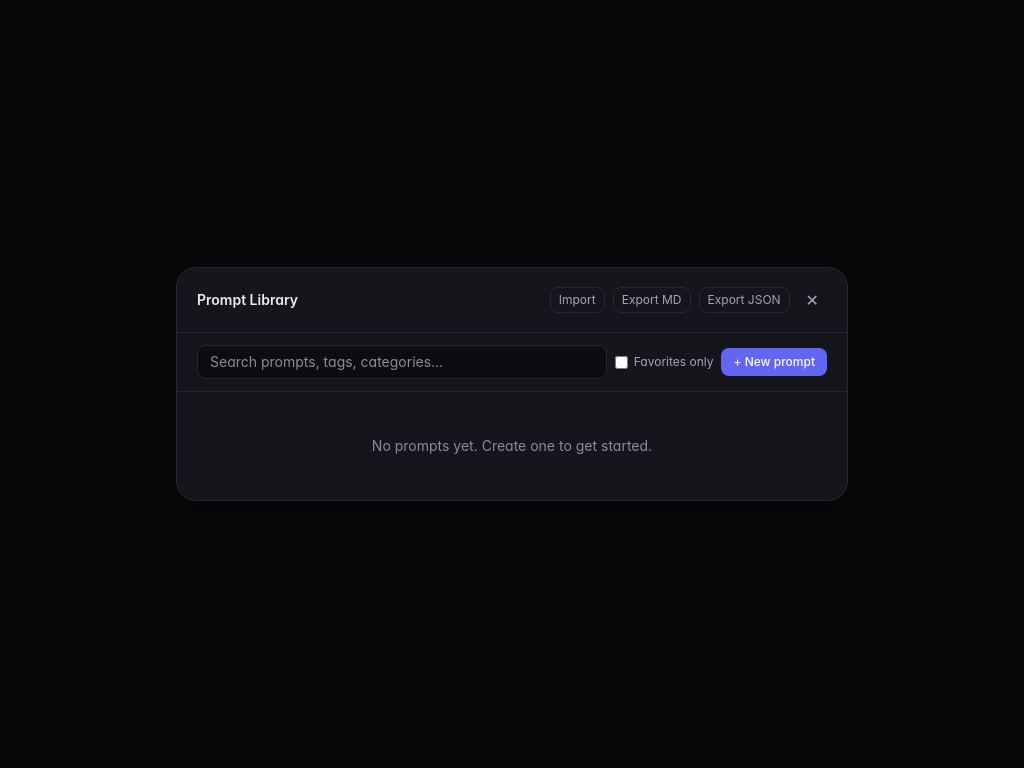
Test case: PromptLibraryModal › creates a new prompt with a title, content, and category
The image size is (1024, 768).
Click the button "+ New prompt" at (774, 362), box [722,348,827,376]
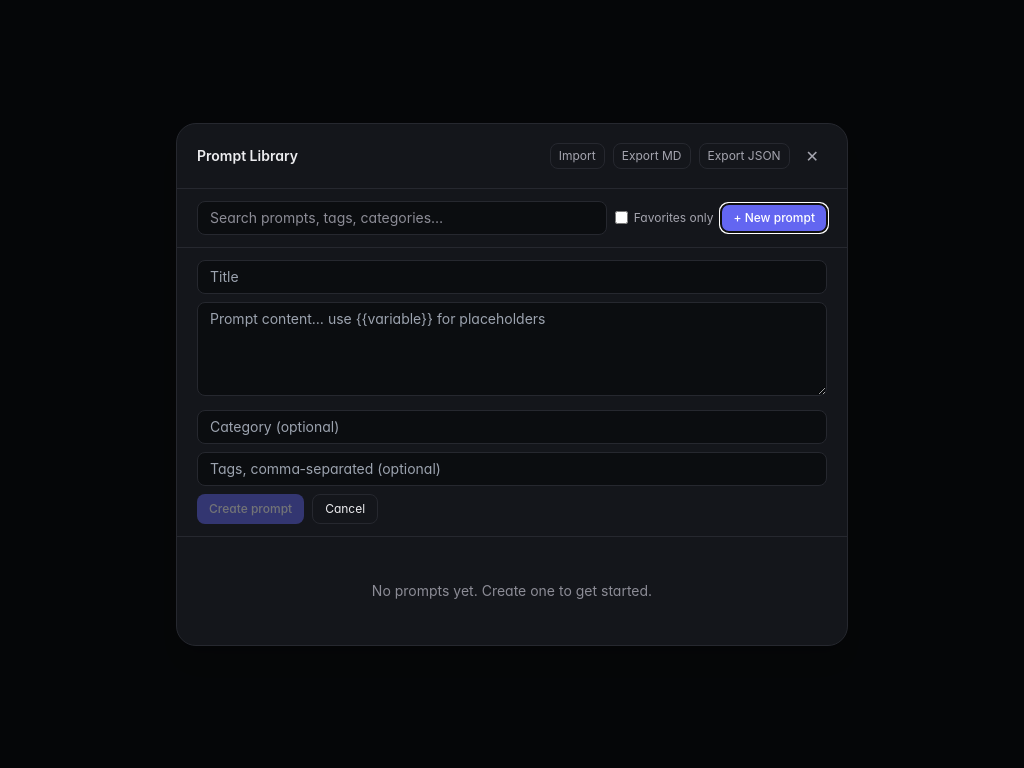
Type "Code review" into the field with placeholder "Title" at (512, 276), box [197,260,827,294]
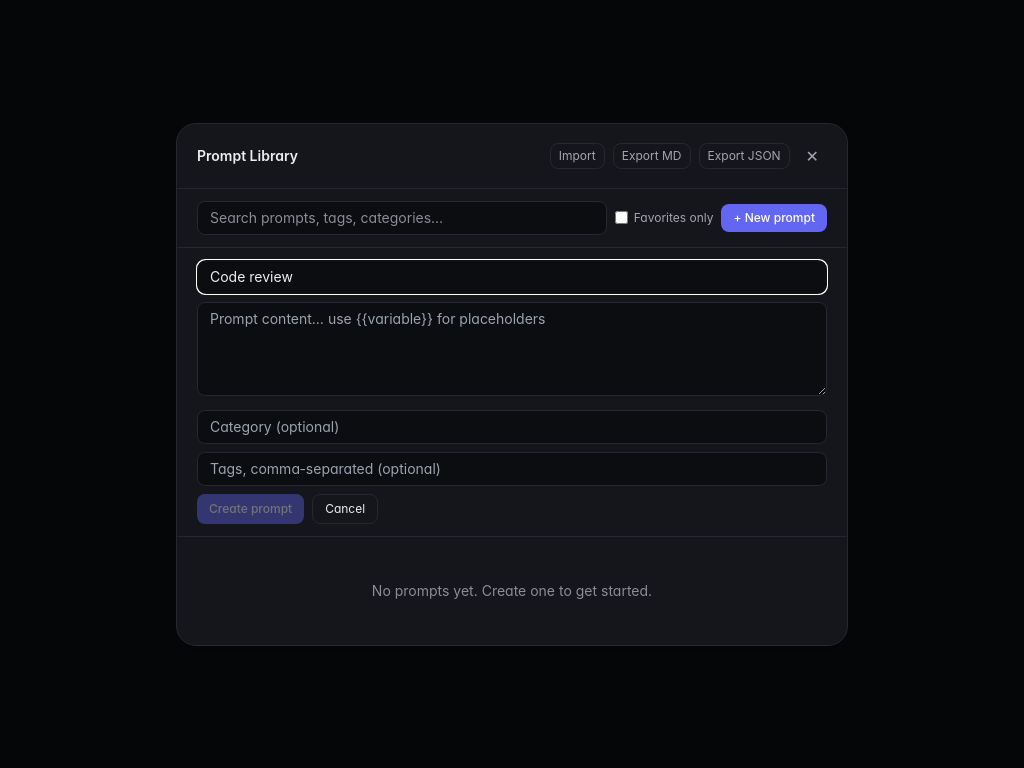
Type "Review this code for bugs" into the text box with placeholder "Prompt content… use {{variable}} for placeholders" at (512, 348), box [197,302,827,396]
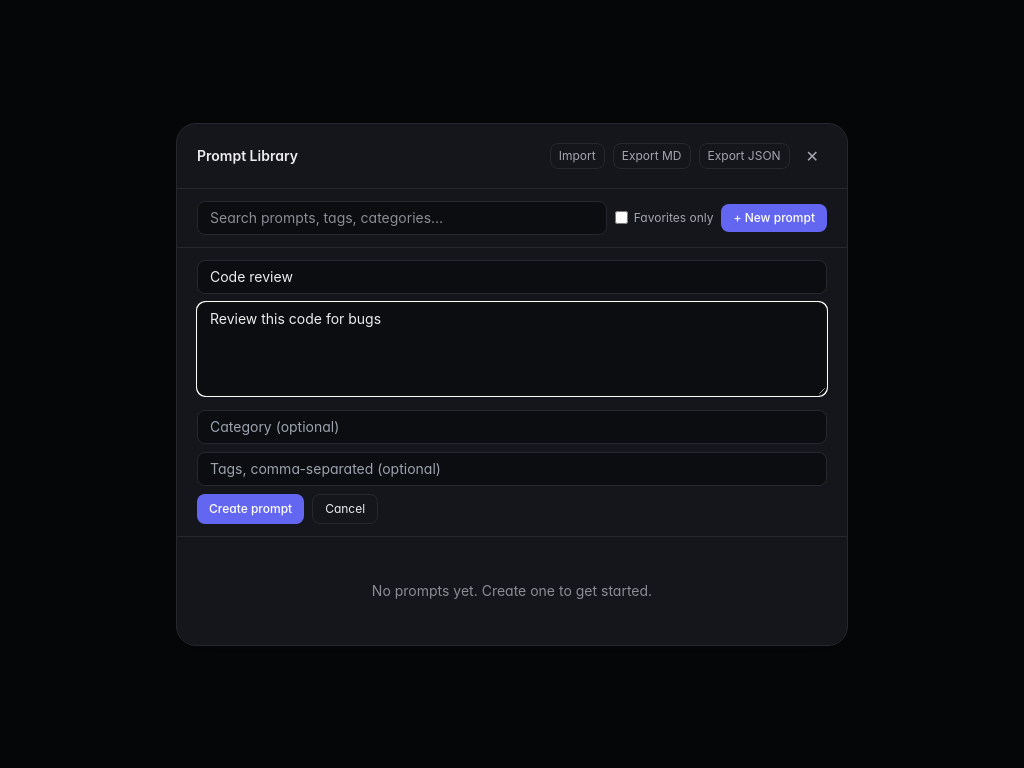
Type "Engineering" into the field with placeholder "Category (optional)" at (512, 426), box [197,410,827,444]
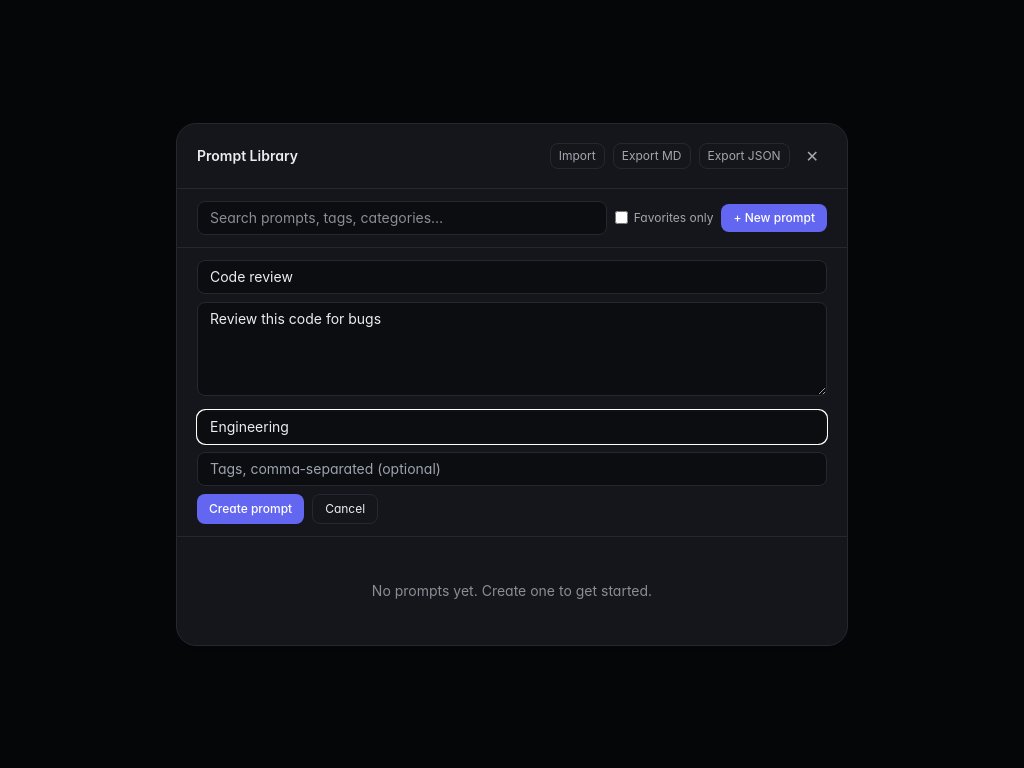
Click the button "Create prompt" at (251, 508), box [197,494,304,524]
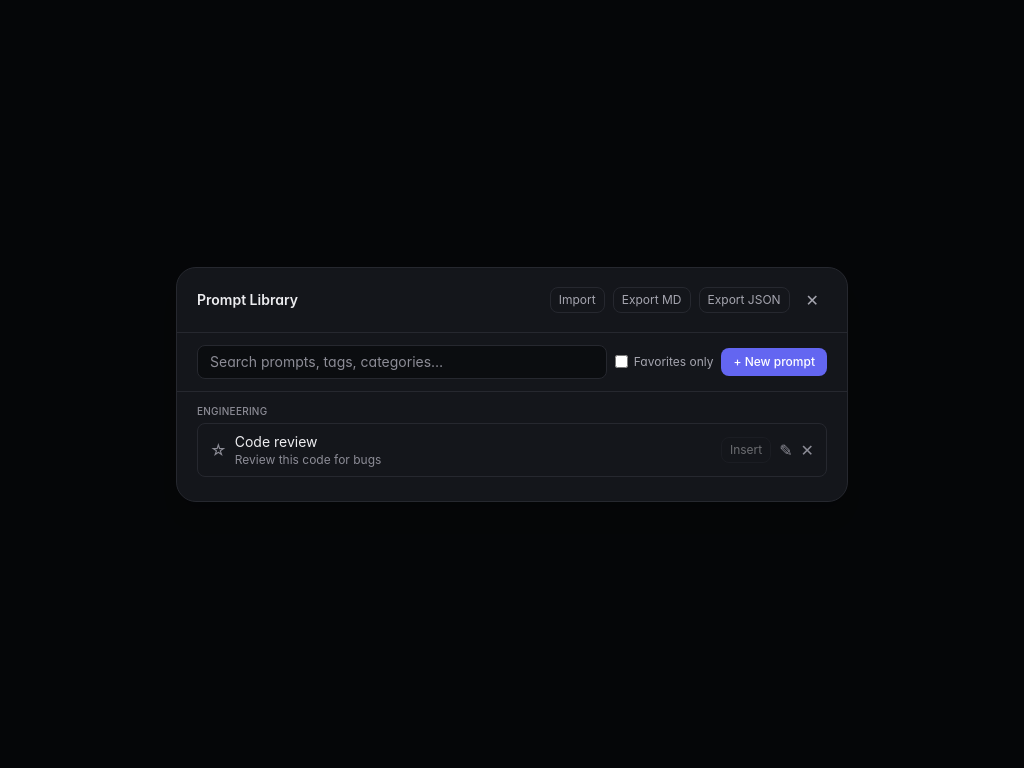
Result: the text "Code review" is shown at [235,432,318,452]
Result: the text "Engineering" is shown at [197,404,267,416]
